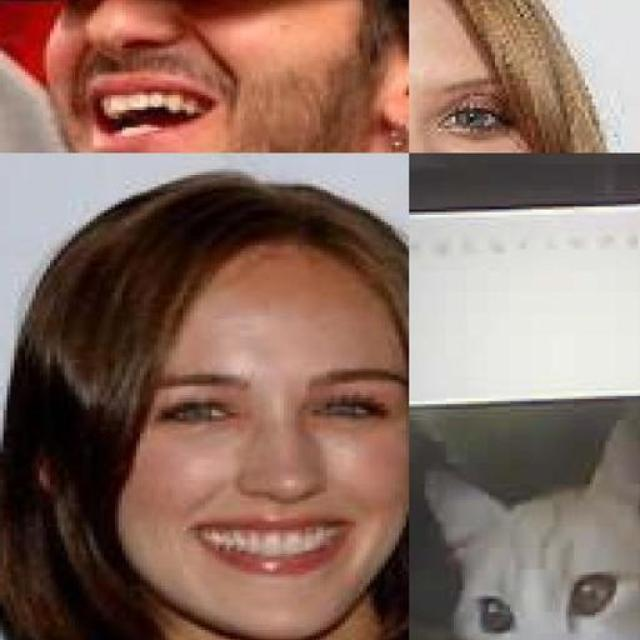bareface: (33, 187, 404, 640)
